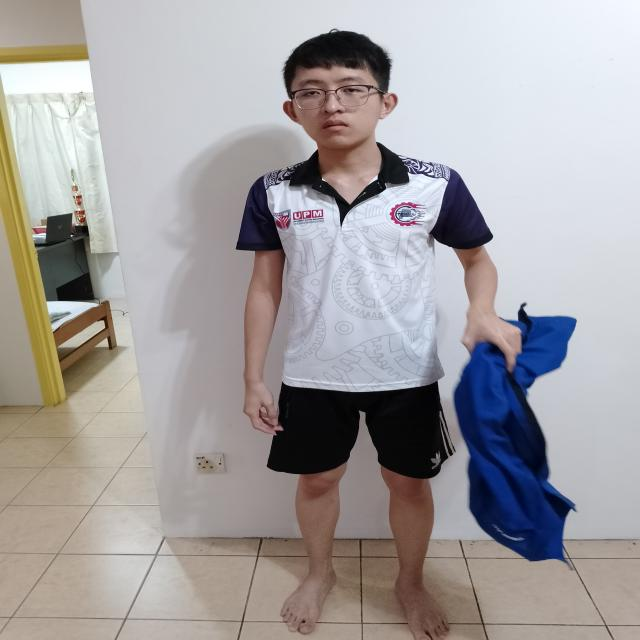person_without_labcoat: (237, 31, 575, 640)
